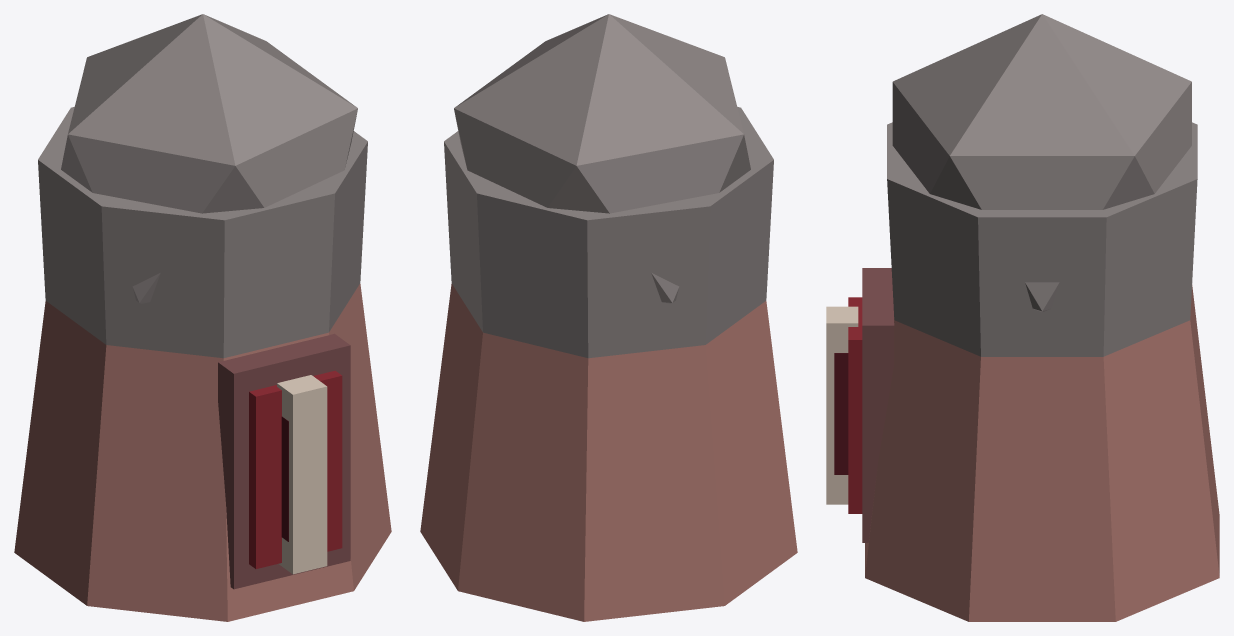
Rendered from inf_v2_walker_lower_arm_r.fbx.
The picture shows the model from 3 angles, left to right: view 1: azimuth 30°, elevation 25°; view 2: azimuth 150°, elevation 25°; view 3: azimuth 270°, elevation 25°; orthographic projection.
Visible parts, largest first — view 1: inf_v2_walker_lower_arm_r; view 2: inf_v2_walker_lower_arm_r; view 3: inf_v2_walker_lower_arm_r.
Boxes of the visible parts, x1=… form: inf_v2_walker_lower_arm_r: x1=14, y1=14, x2=391, y2=621; inf_v2_walker_lower_arm_r: x1=420, y1=14, x2=797, y2=621; inf_v2_walker_lower_arm_r: x1=826, y1=14, x2=1219, y2=621.
Size of the model in its own units: 88.69 by 147 by 98.35.
